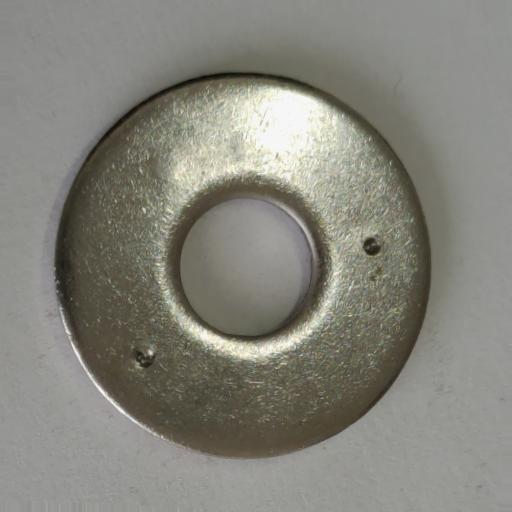circular_cavity: (134, 349, 155, 368), (363, 238, 383, 257)
